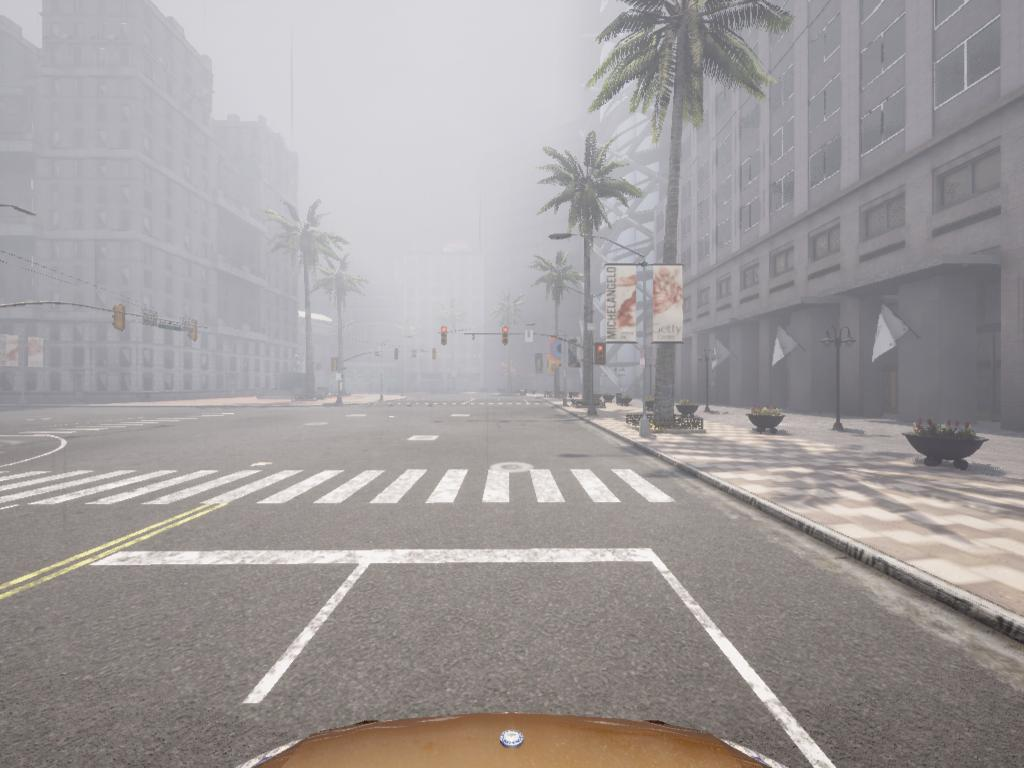traffic_light: (111, 307, 125, 331), (190, 322, 202, 344), (597, 348, 608, 366), (501, 327, 511, 346), (333, 359, 342, 374), (441, 328, 449, 343), (395, 348, 401, 363), (432, 349, 438, 363)
